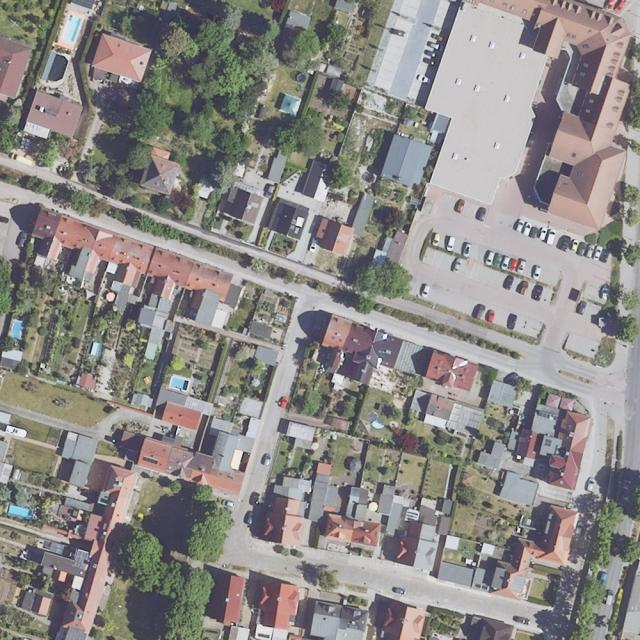ST: (538, 411, 560, 421), (142, 455, 159, 465), (545, 437, 552, 447)
